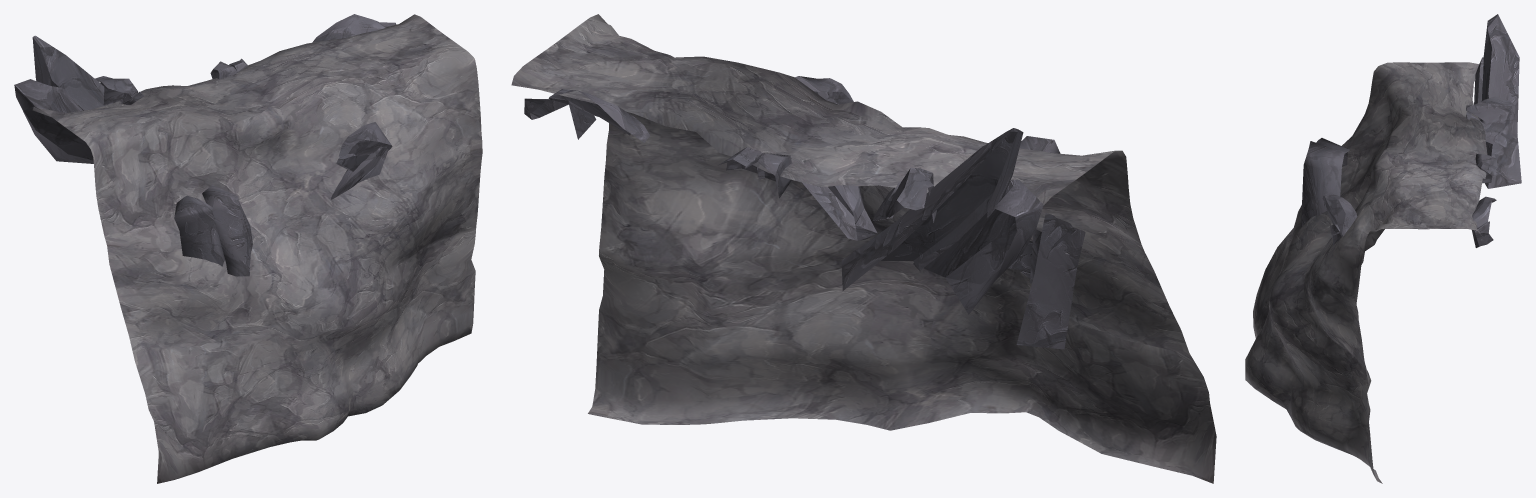
File: GroundWideToNarrow1.fbx
3 renders of one model, left to right at view 1: azimuth 30°, elevation 25°; view 2: azimuth 150°, elevation 25°; view 3: azimuth 270°, elevation 25°, orthographic. The views are drawn at different scales.
Parts seen in each view (by area): view 1: GroundWideToNarrow1; view 2: GroundWideToNarrow1; view 3: GroundWideToNarrow1.
Part boxes in pixels (x1,y1,x2,y2): GroundWideToNarrow1: (14, 14, 482, 483); GroundWideToNarrow1: (511, 14, 1216, 483); GroundWideToNarrow1: (1245, 14, 1521, 483).
Bounding box in the file's own units: 10.1 × 8.8 × 7.03.
3 materials, 3 textured.
